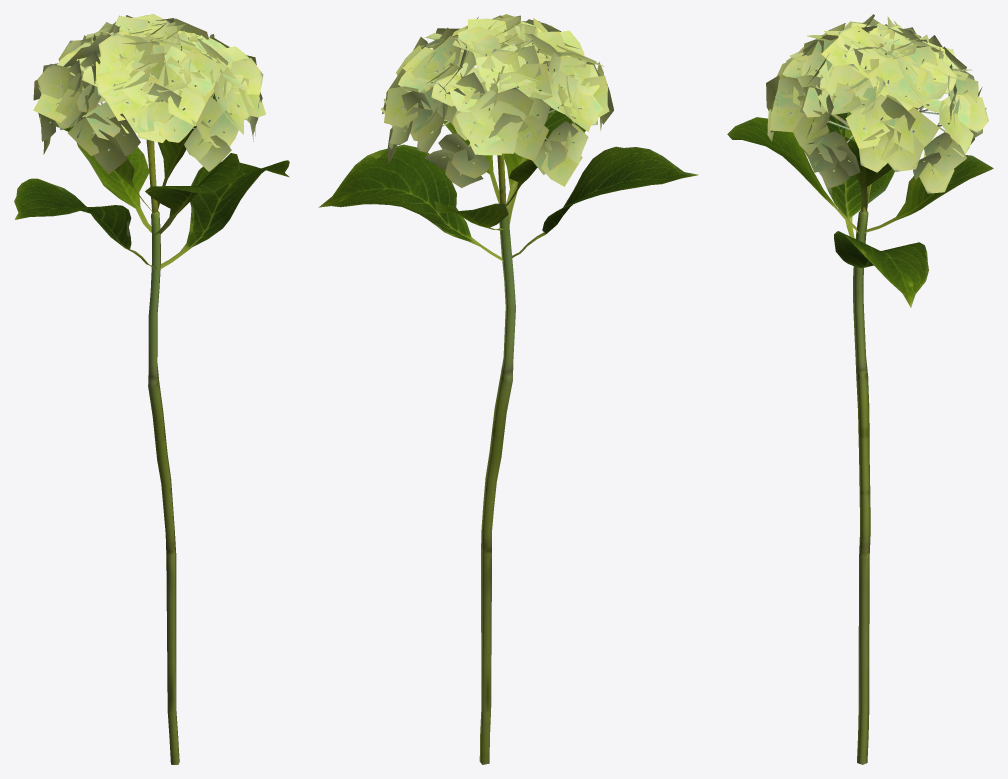
Rendered from Hydrangea_OG_long_greenyellow.glb.
The picture shows the model from 3 angles, left to right: view 1: azimuth 30°, elevation 25°; view 2: azimuth 150°, elevation 25°; view 3: azimuth 270°, elevation 25°; orthographic projection. The views are drawn at different scales.
Visible parts, largest first — view 1: Hydrangea; view 2: Hydrangea; view 3: Hydrangea.
Part boxes in pixels (x1,y1,x2,y2): Hydrangea: [14, 14, 289, 764]; Hydrangea: [318, 14, 698, 764]; Hydrangea: [727, 14, 993, 764].
Size of the model in its own units: 1.38 by 2.99 by 1.
1 material, 1 textured.
